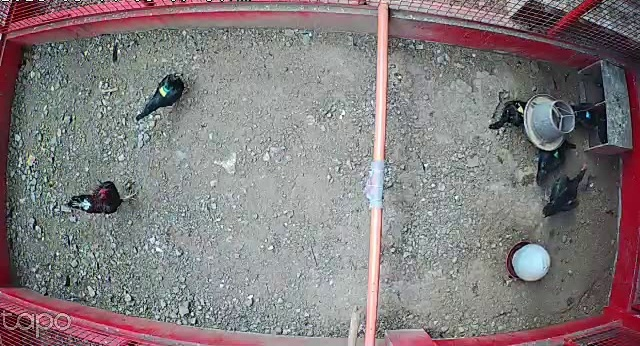Chicken: (135, 64, 194, 120), (538, 163, 592, 218), (532, 135, 578, 184), (489, 99, 531, 132)
Rooster: (66, 172, 144, 216)
Saddle_Color_Blue: (586, 112, 590, 119)
Saddle_Color_Yellow: (515, 103, 522, 114)
Saddle_Color_YellowGreen: (159, 82, 170, 96)
